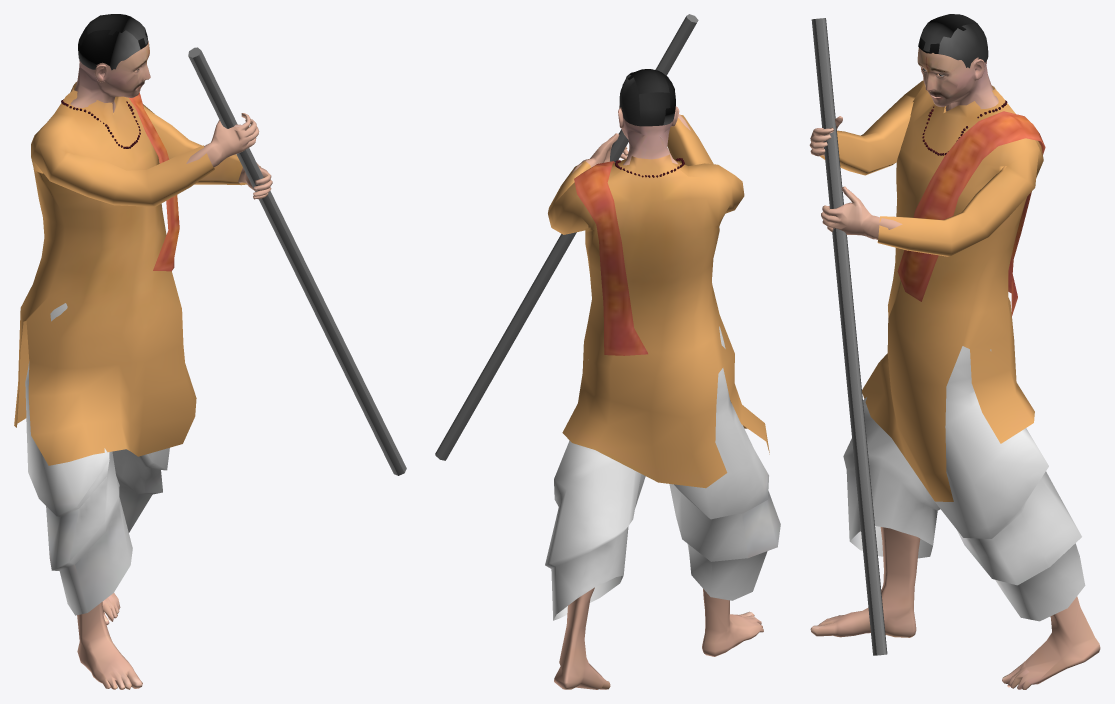
Rendered from food_making_pose.glb.
3 renders of one model, left to right at view 1: azimuth 30°, elevation 25°; view 2: azimuth 150°, elevation 25°; view 3: azimuth 270°, elevation 25°, orthographic. The views are drawn at different scales.
Visible parts, largest first — view 1: main_pandit_combined, pCylinder1; view 2: main_pandit_combined, pCylinder1; view 3: main_pandit_combined, pCylinder1.
Boxes of the visible parts, x1=… form: main_pandit_combined: x1=14, y1=14, x2=272, y2=689; pCylinder1: x1=188, y1=47, x2=406, y2=475; main_pandit_combined: x1=545, y1=69, x2=780, y2=689; pCylinder1: x1=435, y1=14, x2=698, y2=460; main_pandit_combined: x1=809, y1=14, x2=1100, y2=689; pCylinder1: x1=811, y1=18, x2=887, y2=655.
Size of the model in its own units: 0.9789 by 1.67 by 0.6575.
2 materials, 1 textured.
